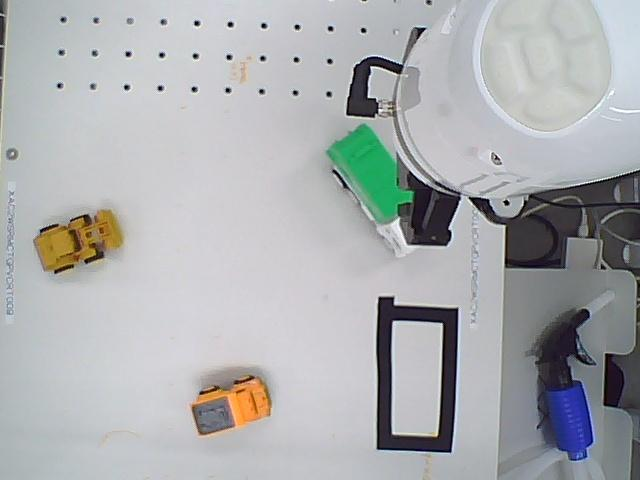Diesel car: (187, 366, 275, 441)
Electric car: (323, 119, 423, 260)
Gasoline car: (33, 203, 126, 284)
